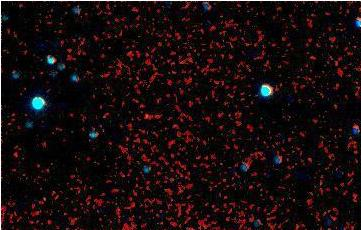star: (130, 99, 160, 129)
